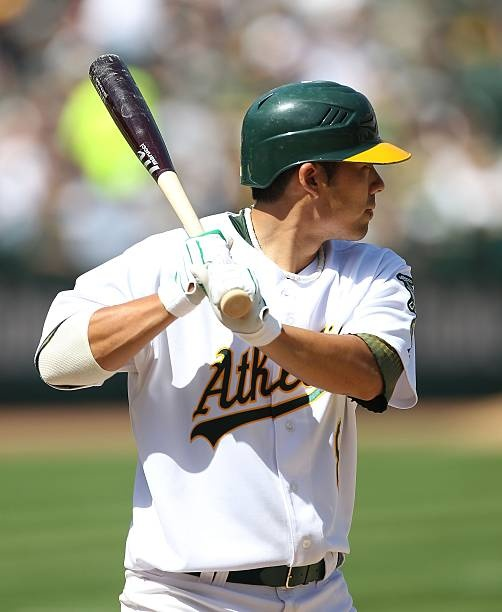bita: (87, 50, 252, 313)
